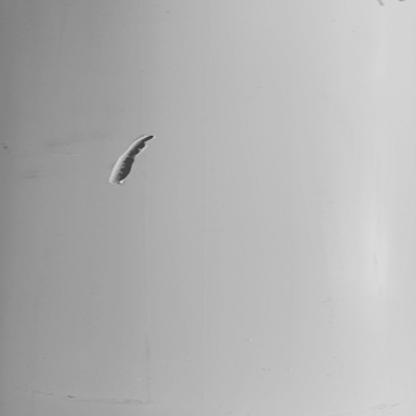sunshang: (104, 132, 162, 190)
